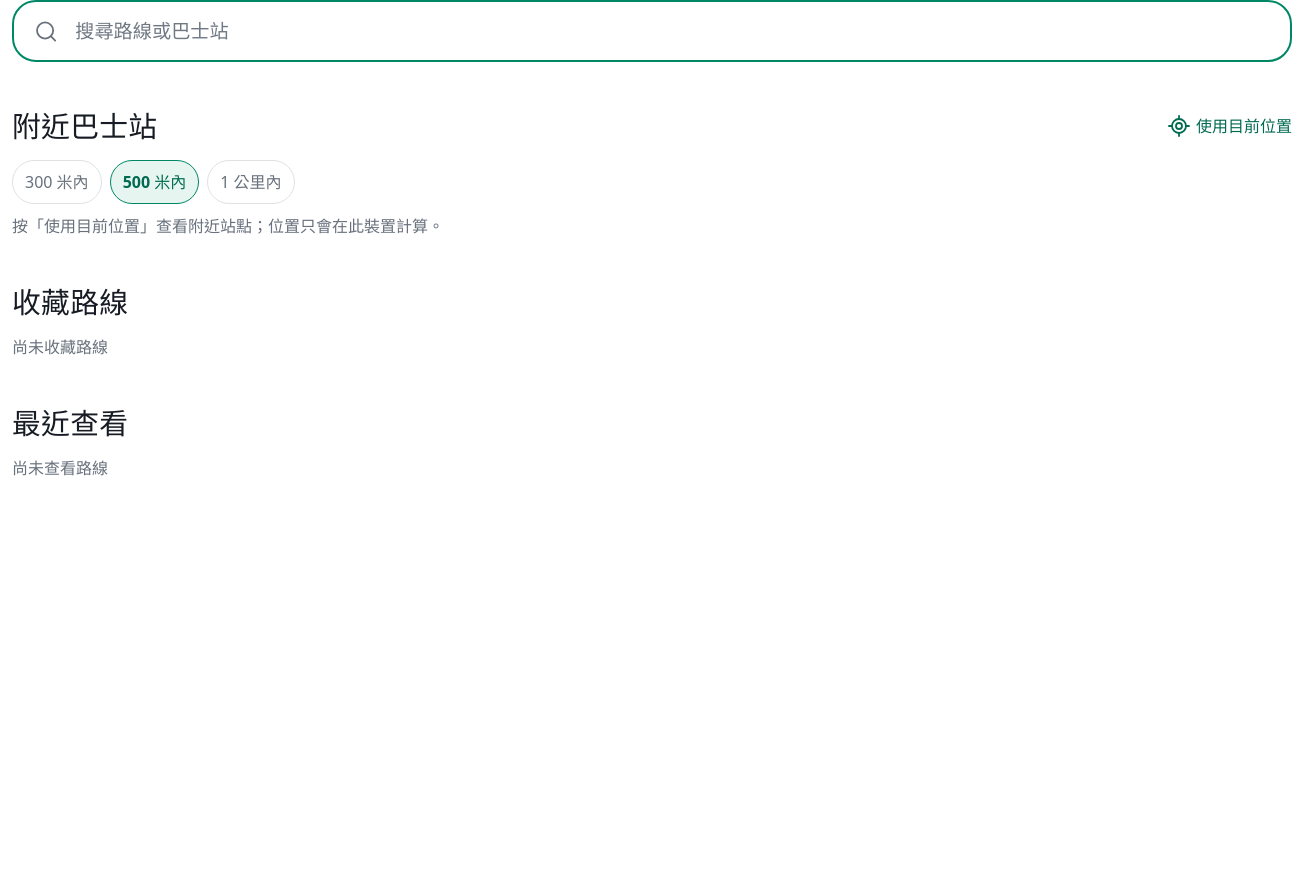
Scenario: HomePage › keeps nearby stops visible when the arrivals API fails
Click the button "使用目前位置" at (1230, 126), box [1167, 104, 1292, 148]
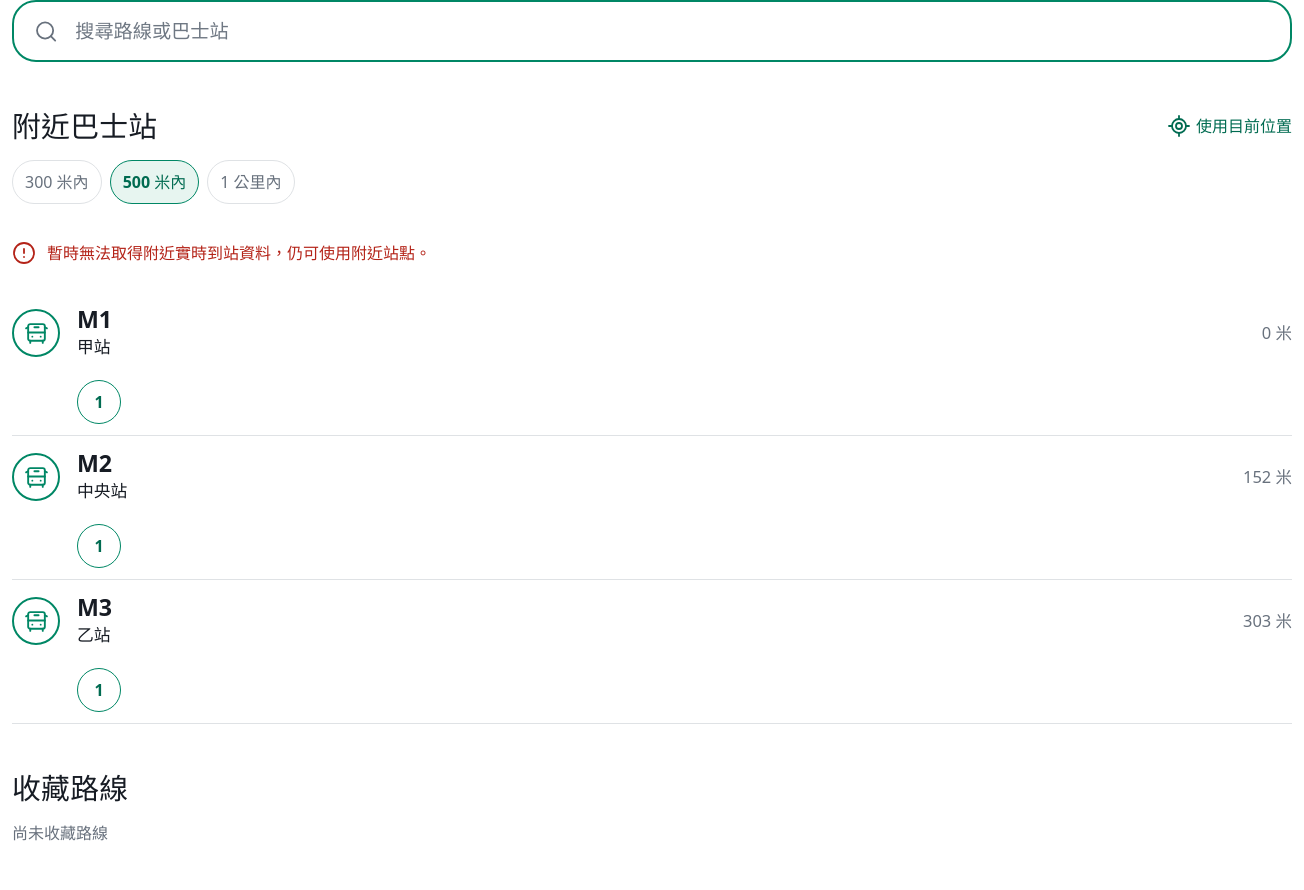
Check: the message shows "暫時無法取得附近實時到站資料", box [47, 242, 431, 264]
Check: the text "甲站" is shown, box [77, 335, 111, 358]
Check: the text "中央站" is shown, box [77, 479, 127, 502]
